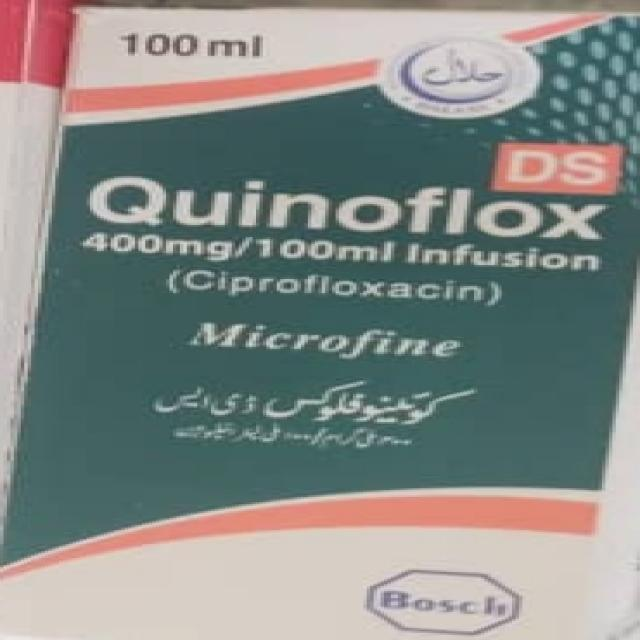drug-name: (85, 171, 610, 242)
